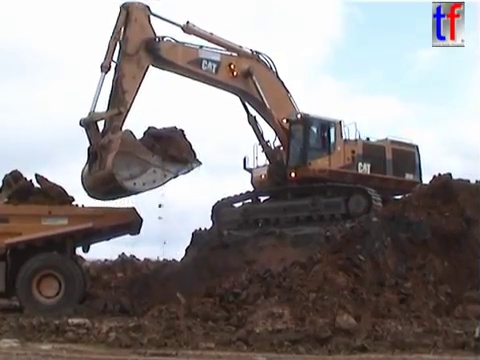excavator: (74, 1, 430, 239)
truck: (1, 198, 146, 322)
